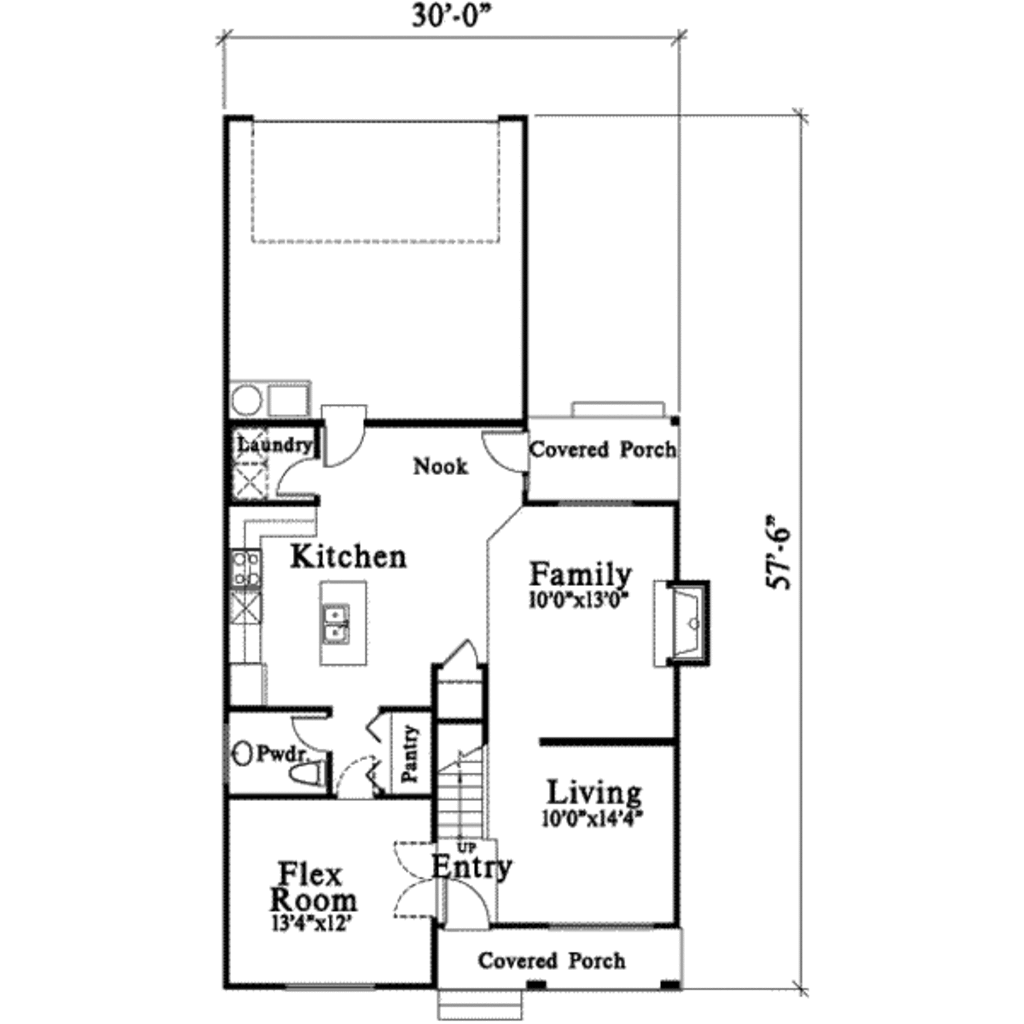door: (380, 841, 441, 924), (319, 407, 373, 466), (477, 425, 528, 482), (336, 753, 383, 805), (281, 713, 341, 753), (277, 453, 319, 500), (442, 639, 494, 675)
large_sink: (273, 758, 336, 803)
small_sink: (233, 732, 258, 782)
stairs: (441, 724, 494, 875)
twin_sink: (317, 608, 356, 652)
window: (275, 977, 380, 988)
